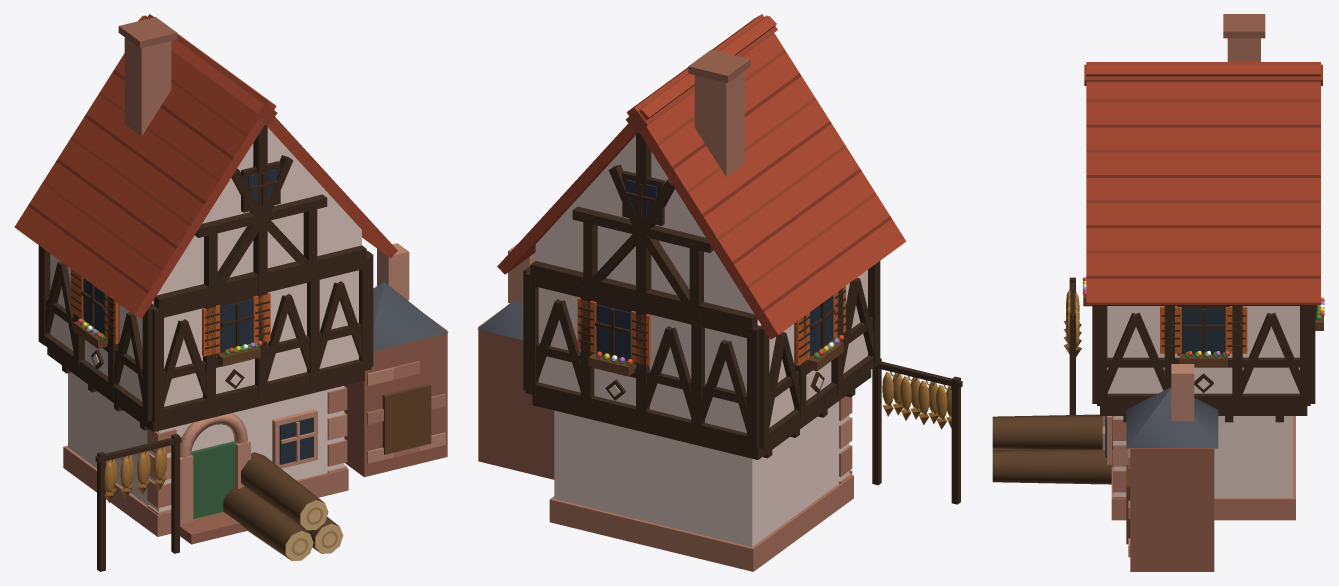
Rendered from raeucherei.glb.
3 renders of one model, left to right at view 1: azimuth 30°, elevation 25°; view 2: azimuth 150°, elevation 25°; view 3: azimuth 270°, elevation 25°, orthographic. The views are drawn at different scales.
Size of the model in its own units: 4.1 by 4.59 by 3.19.
